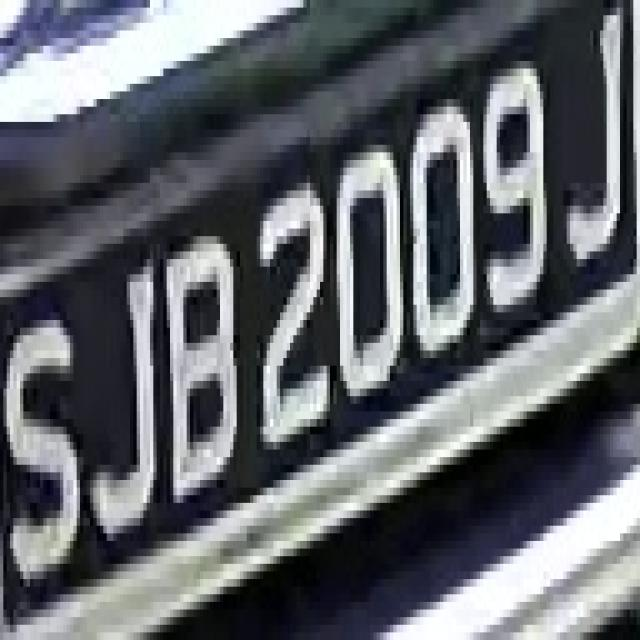0: (320, 107, 410, 419), (390, 99, 473, 381)
2: (250, 160, 337, 472)
9: (477, 38, 550, 320)
B: (157, 221, 243, 510)
J: (84, 236, 164, 572), (556, 0, 626, 282)
S: (7, 274, 80, 594)
